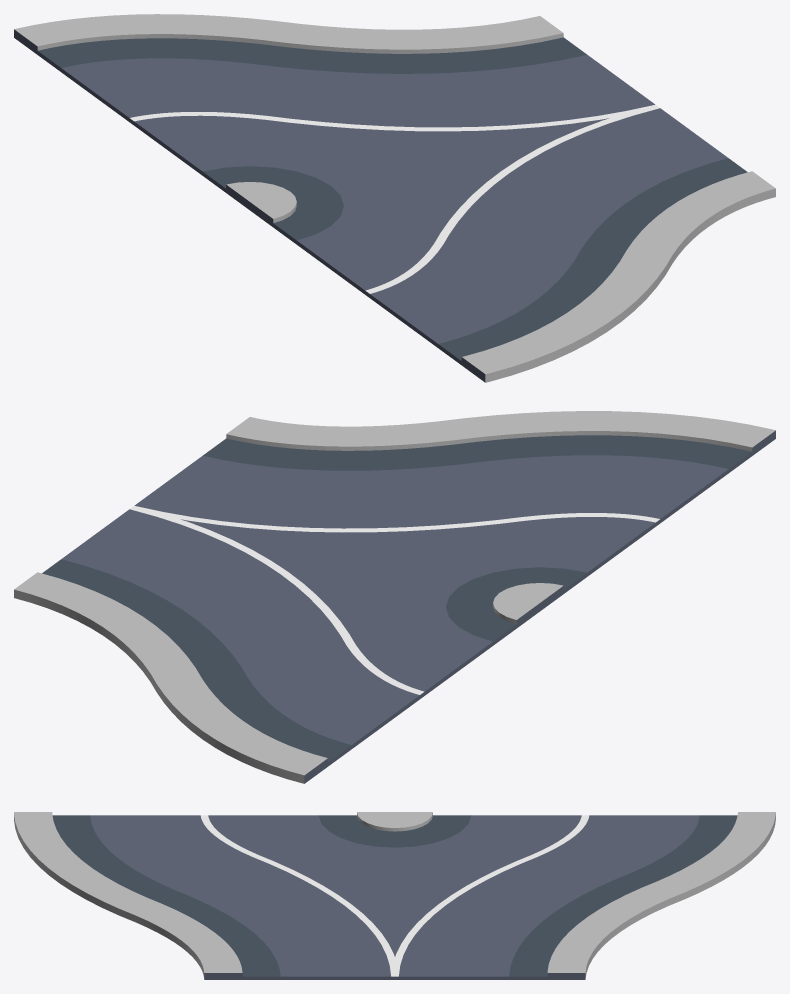
Rendered from SM_Road_Split.fbx.
The picture shows the model from 3 angles, top to bottom: view 1: azimuth 30°, elevation 25°; view 2: azimuth 150°, elevation 25°; view 3: azimuth 270°, elevation 25°; orthographic projection. The views are drawn at different scales.
Visible parts, largest first — view 1: SM_Road_Split; view 2: SM_Road_Split; view 3: SM_Road_Split.
Boxes of the visible parts, box(x1,y1,x2,y2) form: SM_Road_Split: box(14, 14, 775, 382); SM_Road_Split: box(14, 411, 775, 783); SM_Road_Split: box(14, 812, 775, 979).
Size of the model in its own units: 1000 by 20 by 2000.
